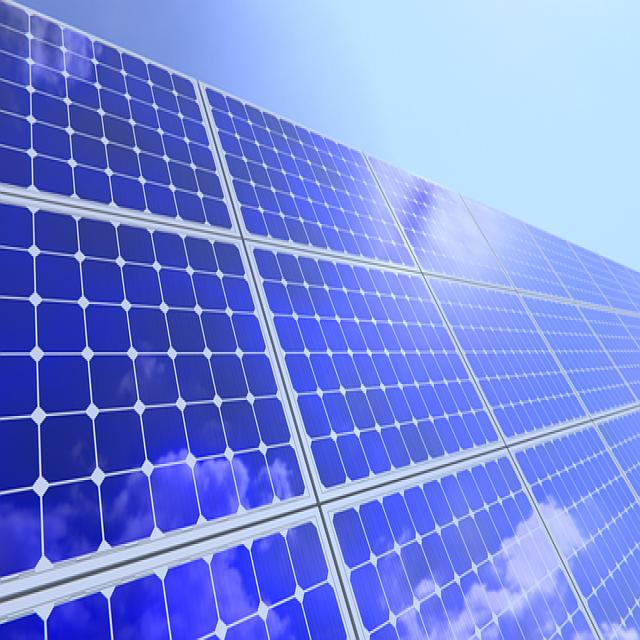clean-solar-panel: (118, 224, 155, 264)
